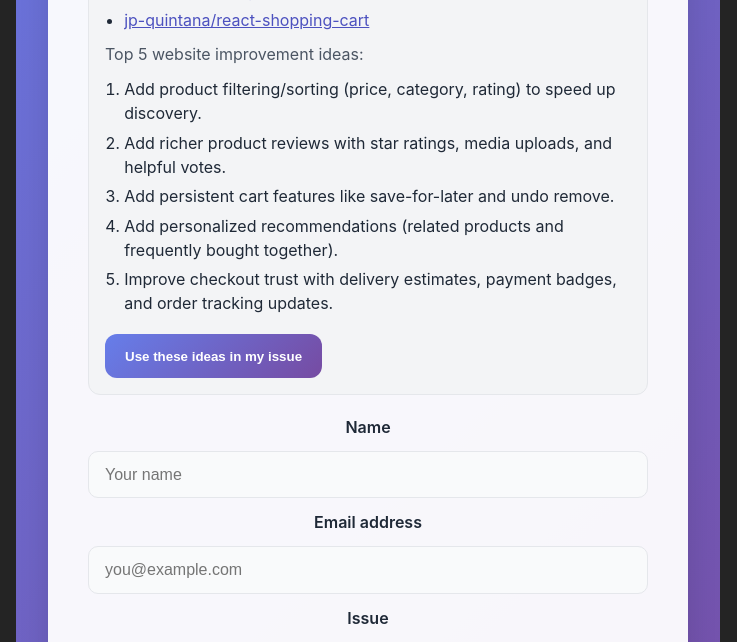
Test case: ContactPage › prefills issue field with inspiration ideas
The image size is (737, 642).
(page scrolled)
Step 1. Click the button "Use these ideas in my issue" → (214, 356), box [105,334,322,378]
(page scrolled)
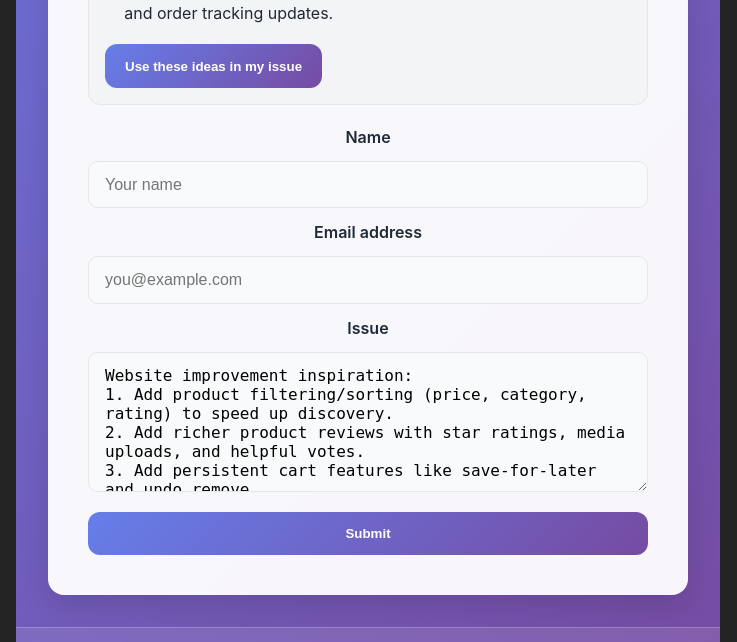
Expected: the text box showing "1. Add product filtering/sorting" is shown, [88,352,648,492]
